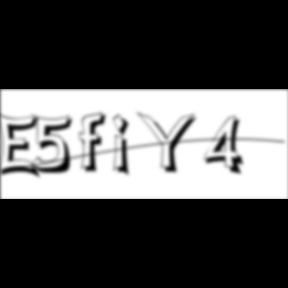4: (204, 115, 250, 179)
5: (31, 114, 78, 176)
E: (0, 110, 46, 182)
Y: (136, 110, 202, 176)
f: (79, 111, 112, 175)
i: (113, 112, 137, 180)
